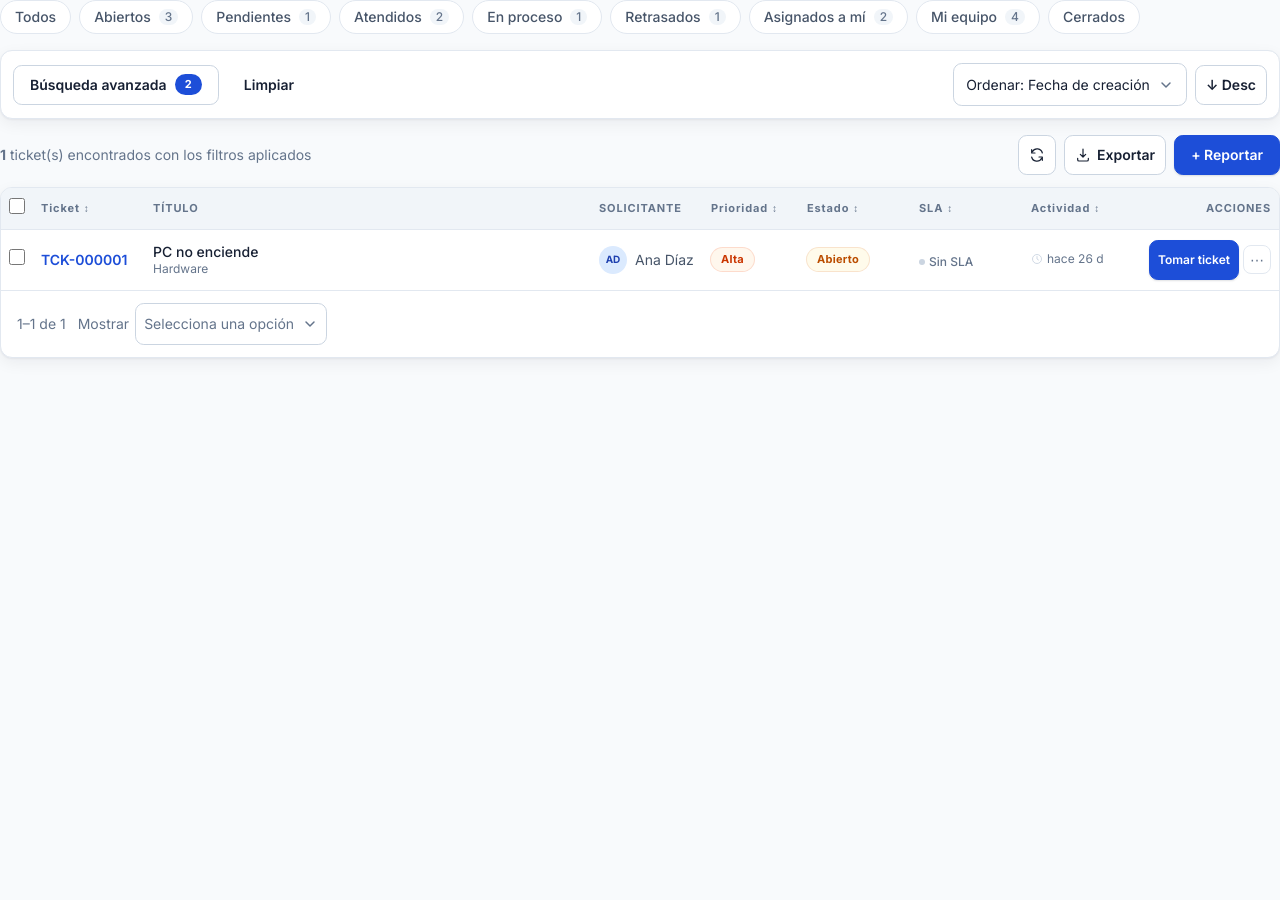
Test: Tickets › preselecciona los filtros avanzados desde la URL
The image size is (1280, 900).
Expected: the link "TCK-000001" is shown, [41,250,127,269]
Expected: the 3rd text "2" is shown, [175,74,202,95]
What coordinates should you click on to do the following:
click the button "Búsqueda avanzada 2"
I would click on:
 (116, 84)
Its box is [13,64,219,104].
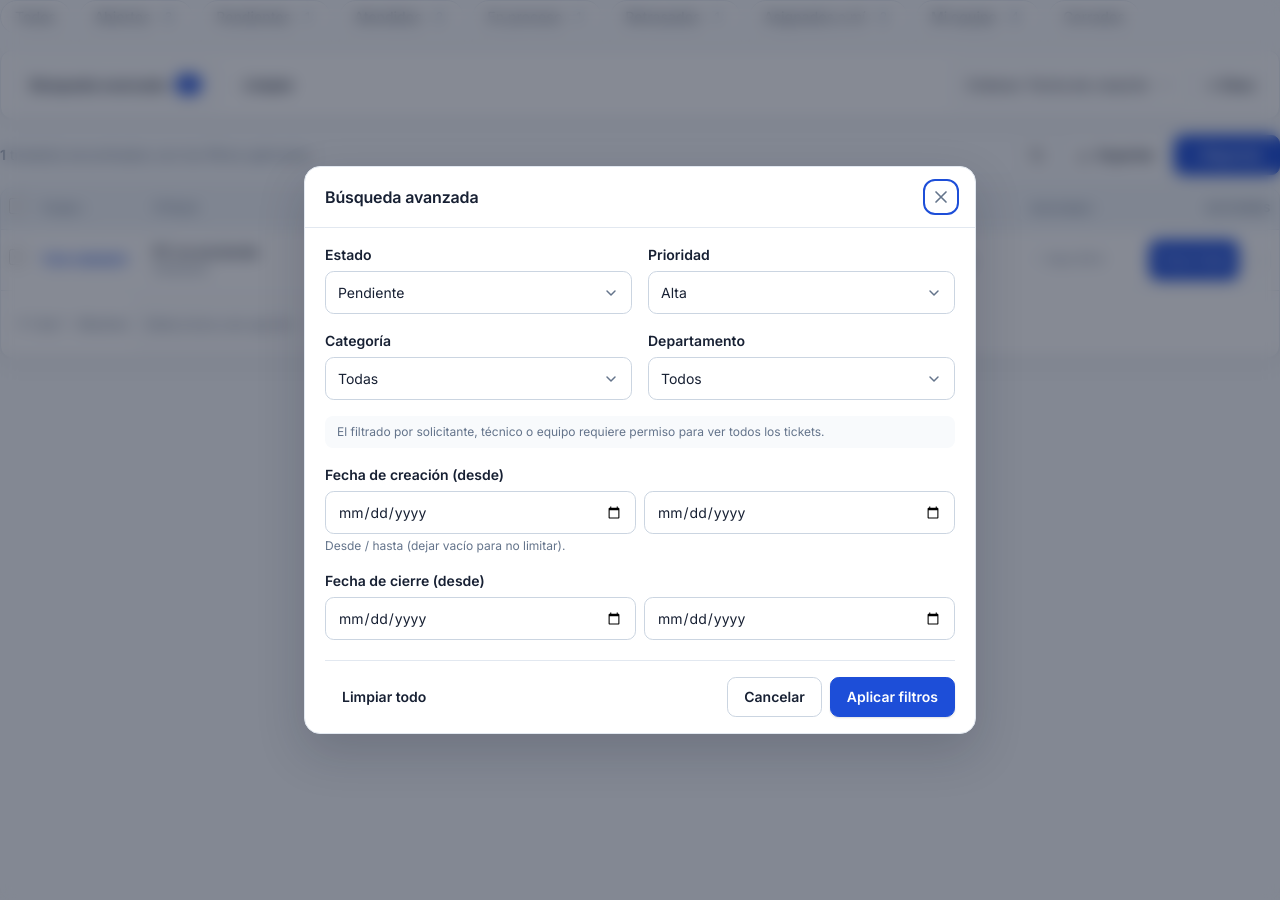
Expected: the dropdown labelled "Pendiente" is shown, [325,271,632,314]
Expected: the dropdown labelled "Alta" is shown, [648,271,955,314]
